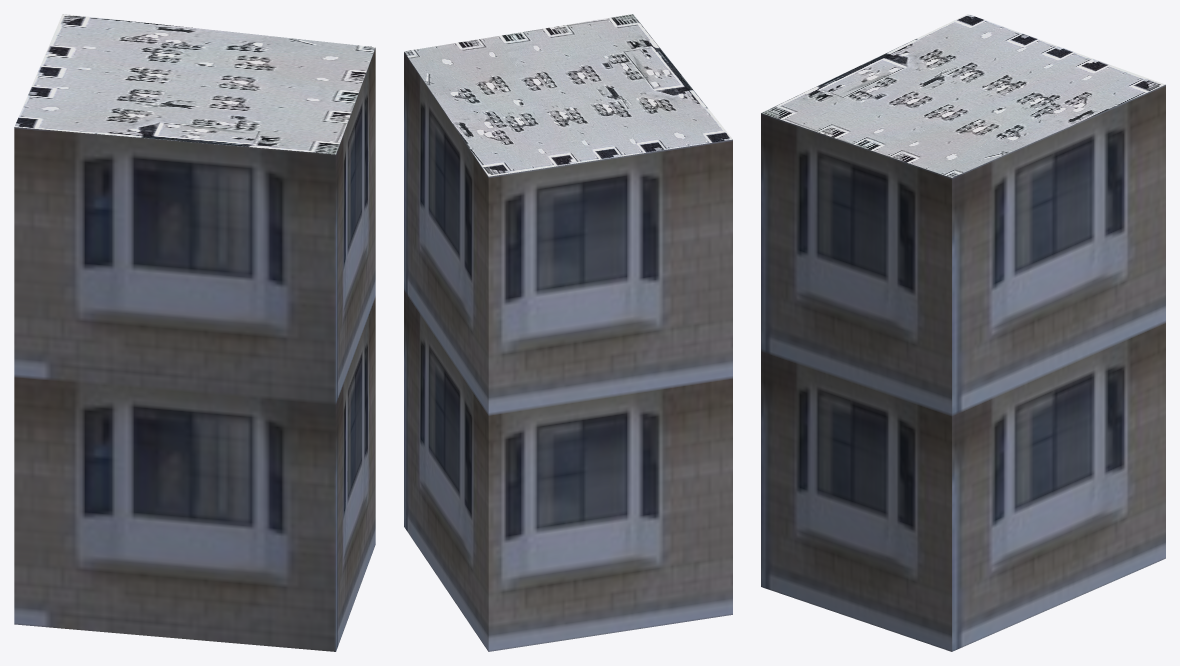
File: ResTex__838.fbx
3 renders of one model, left to right at view 1: azimuth 30°, elevation 25°; view 2: azimuth 150°, elevation 25°; view 3: azimuth 270°, elevation 25°, orthographic. The views are drawn at different scales.
Visible parts, largest first — view 1: CityEngineMaterial_3_m, CityEngineMaterial_8_m; view 2: CityEngineMaterial_3_m, CityEngineMaterial_8_m; view 3: CityEngineMaterial_3_m, CityEngineMaterial_8_m.
Boxes of the visible parts, x1,y1,x2,y2 form: CityEngineMaterial_3_m: [14, 48, 375, 651]; CityEngineMaterial_8_m: [14, 14, 375, 154]; CityEngineMaterial_3_m: [404, 52, 732, 651]; CityEngineMaterial_8_m: [404, 14, 732, 176]; CityEngineMaterial_3_m: [761, 85, 1165, 651]; CityEngineMaterial_8_m: [761, 14, 1165, 177].
Bounding box in the file's own units: 4.45 × 6 × 4.64.
Materials: 2 (2 with a texture image).
